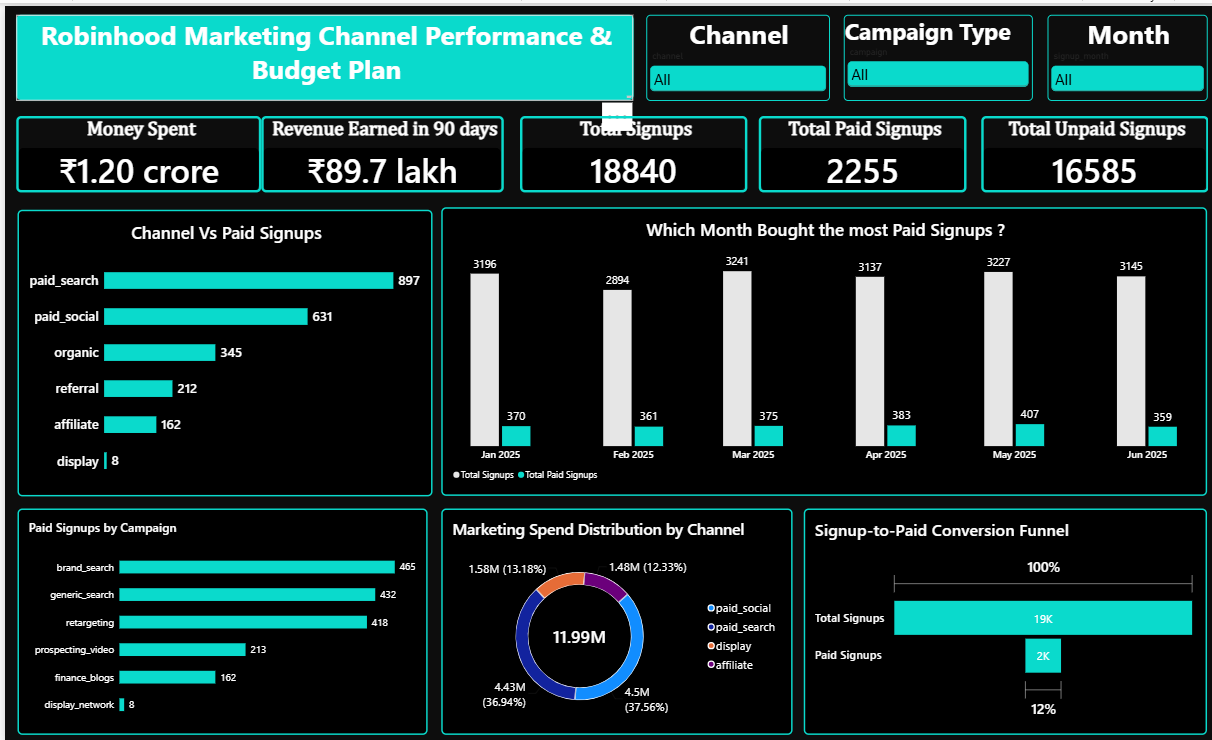

The dashboard page shown, as its layout file describes it:
{"tool":"powerbi","page":{"name":"Page 1","canvas":[1980,1208],"ordinal":0},"visuals":[{"type":"textbox","title":"Robinhood Marketing Channel Performance & Budget Plan","box":[18.8,14.6,1008.3,139.6],"z":0},{"type":"slicer","title":"Channel","fields":{"Values":["signups.channel"]},"box":[1046.8,14.9,300,140.4],"z":1000},{"type":"slicer","title":"Campaign Type","fields":{"Values":["signups.campaign"]},"box":[1370.2,14.9,308.5,140.4],"z":2000},{"type":"slicer","title":"Month","fields":{"Values":["signups.signup_month"]},"box":[1702.1,14.9,261.7,140.4],"z":3000},{"type":"cardVisual","title":"Money Spent","fields":{"Data":["ads.Money Spent Text"]},"box":[18.8,179.2,400,125],"z":4000},{"type":"cardVisual","title":"Revenue  Earned in 90 days","fields":{"Data":["ads.Money Earned Text"]},"box":[418.8,179.2,395.8,125],"z":5000},{"type":"cardVisual","title":"Total Paid Signups ","fields":{"Data":["ads.Total Paid Signups"]},"box":[1231.2,179.2,339.6,125],"z":6000},{"type":"cardVisual","title":"Total Unpaid Signups","fields":{"Data":["ads.Total Unpaid Signups"]},"box":[1593.8,179.2,370.8,125],"z":7000},{"type":"cardVisual","title":"Total Signups","fields":{"Data":["ads.Total Signups"]},"box":[841.7,179.2,370.8,125],"z":8000},{"type":"clusteredBarChart","title":"Channel Vs Paid Signups","fields":{"Category":["signups.channel"],"Y":["ads.Total Paid Signups"]},"box":[20.5,331.8,677.3,468.2],"z":9000},{"type":"clusteredColumnChart","title":"Which Month Bought the most Paid Signups ?","fields":{"Category":["signups.signup_month"],"Y":["ads.Total Signups","ads.Total Paid Signups"]},"box":[712.5,329.2,1250,470.8],"z":10000},{"type":"donutChart","title":"Marketing Spend Distribution by Channel","fields":{"Y":["ads.Money Spent"],"Category":["ads.channel_key"]},"box":[713,819.6,573.9,369.6],"z":11000},{"type":"clusteredBarChart","title":"Paid Signups by Campaign","fields":{"Category":["signups.campaign"],"Y":["ads.Total Paid Signups"]},"box":[19.6,819.6,669.6,369.6],"z":12000},{"type":"funnel","title":"Signup-to-Paid Conversion Funnel","fields":{"Category":["Funnel.Column1"],"Y":["Funnel.Funnel Value"]},"box":[1304.3,819.6,658.7,369.6],"z":13000}]}

Visuals, with their boxes in screenshot pixels (x1, y1, x2, y2), scaled from the page's 1980x1208 canvas onto the 1212x740 screenshot:
"Robinhood Marketing Channel Performance & Budget Plan" textbox: locate(12, 9, 629, 94)
"Channel" slicer: locate(641, 9, 824, 95)
"Campaign Type" slicer: locate(839, 9, 1028, 95)
"Month" slicer: locate(1042, 9, 1202, 95)
"Money Spent" cardVisual: locate(12, 110, 256, 186)
"Revenue  Earned in 90 days" cardVisual: locate(256, 110, 499, 186)
"Total Paid Signups " cardVisual: locate(754, 110, 962, 186)
"Total Unpaid Signups" cardVisual: locate(976, 110, 1203, 186)
"Total Signups" cardVisual: locate(515, 110, 742, 186)
"Channel Vs Paid Signups" clusteredBarChart: locate(13, 203, 427, 490)
"Which Month Bought the most Paid Signups ?" clusteredColumnChart: locate(436, 202, 1201, 490)
"Marketing Spend Distribution by Channel" donutChart: locate(436, 502, 788, 728)
"Paid Signups by Campaign" clusteredBarChart: locate(12, 502, 422, 728)
"Signup-to-Paid Conversion Funnel" funnel: locate(798, 502, 1202, 728)
